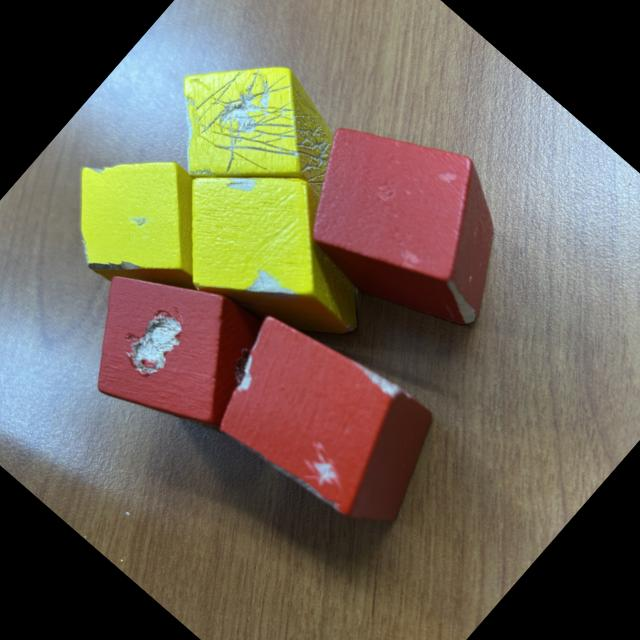broken: (266, 80, 554, 362), (188, 288, 464, 558), (138, 123, 409, 387), (48, 226, 296, 472), (136, 18, 370, 250), (32, 115, 254, 334)
